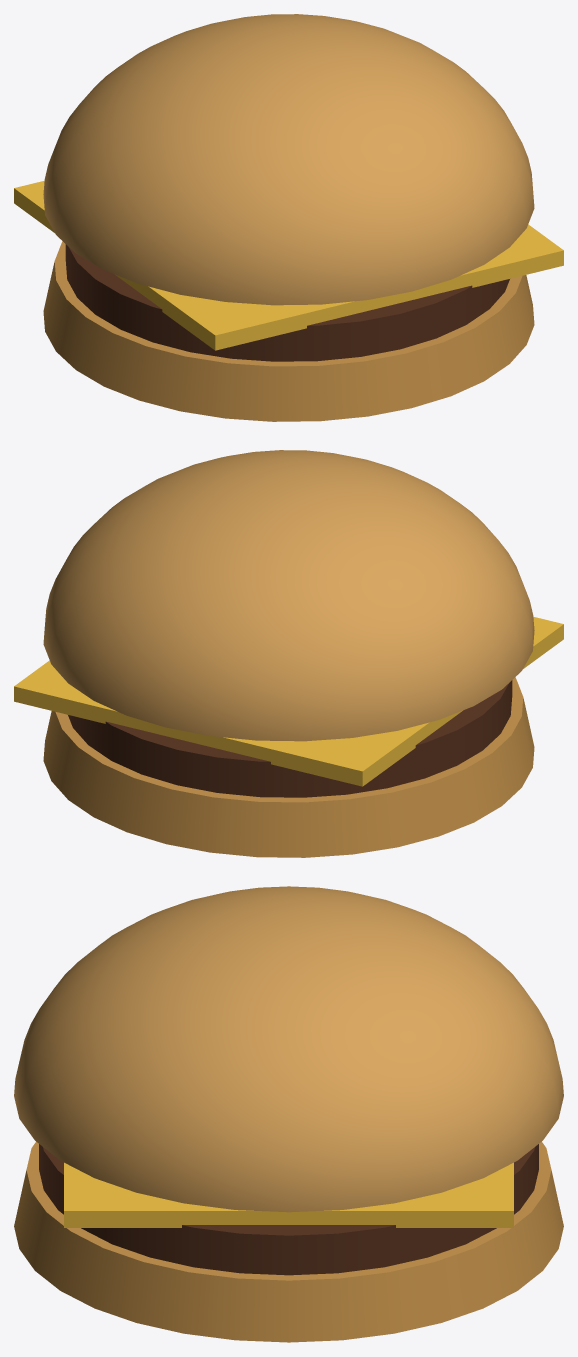
File: burger.glb
3 renders of one model, top to bottom at view 1: azimuth 30°, elevation 25°; view 2: azimuth 150°, elevation 25°; view 3: azimuth 270°, elevation 25°, orthographic. The views are drawn at different scales.
Parts seen in each view (by area): view 1: bunTop, bunBottom, patty, cheese; view 2: bunTop, bunBottom, patty, cheese; view 3: bunTop, bunBottom, patty, cheese.
Boxes of the visible parts, x1=… form: bunTop: x1=43, y1=14, x2=534, y2=305; bunBottom: x1=43, y1=241, x2=534, y2=421; patty: x1=65, y1=244, x2=509, y2=361; cheese: x1=14, y1=180, x2=563, y2=350; bunTop: x1=43, y1=450, x2=534, y2=741; bunBottom: x1=43, y1=677, x2=534, y2=857; patty: x1=68, y1=680, x2=512, y2=797; cheese: x1=14, y1=616, x2=563, y2=786; bunTop: x1=14, y1=886, x2=563, y2=1212; bunBottom: x1=14, y1=1141, x2=563, y2=1342; patty: x1=39, y1=1144, x2=538, y2=1275; cheese: x1=64, y1=1162, x2=513, y2=1227.
Bounding box in the file's own units: 0.44 × 0.269 × 0.44.
